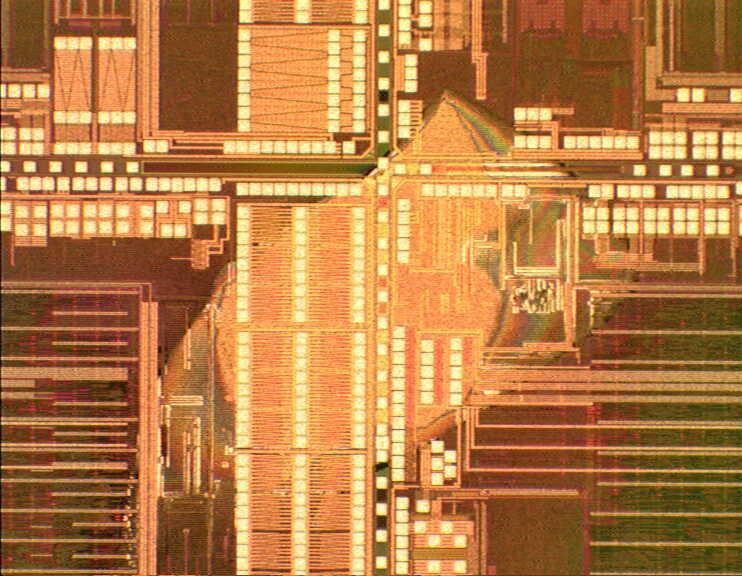BLOCK ETCH: (124, 86, 642, 569)
